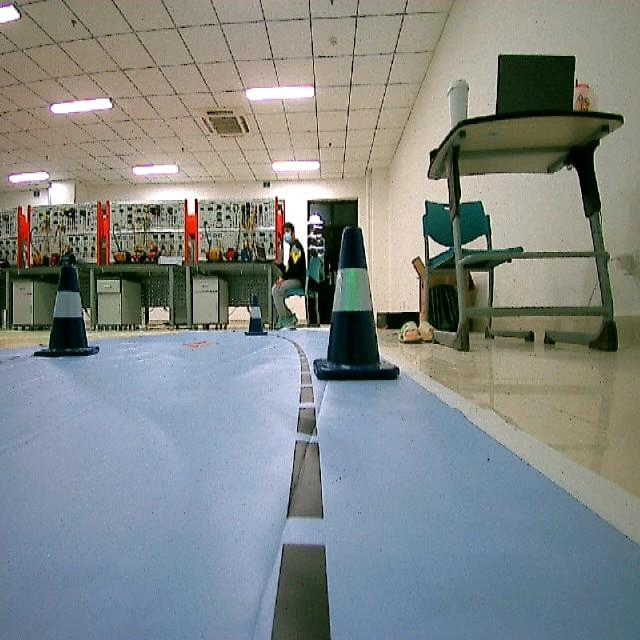obstacle: (317, 226, 402, 385), (38, 264, 102, 360), (244, 293, 266, 337)
